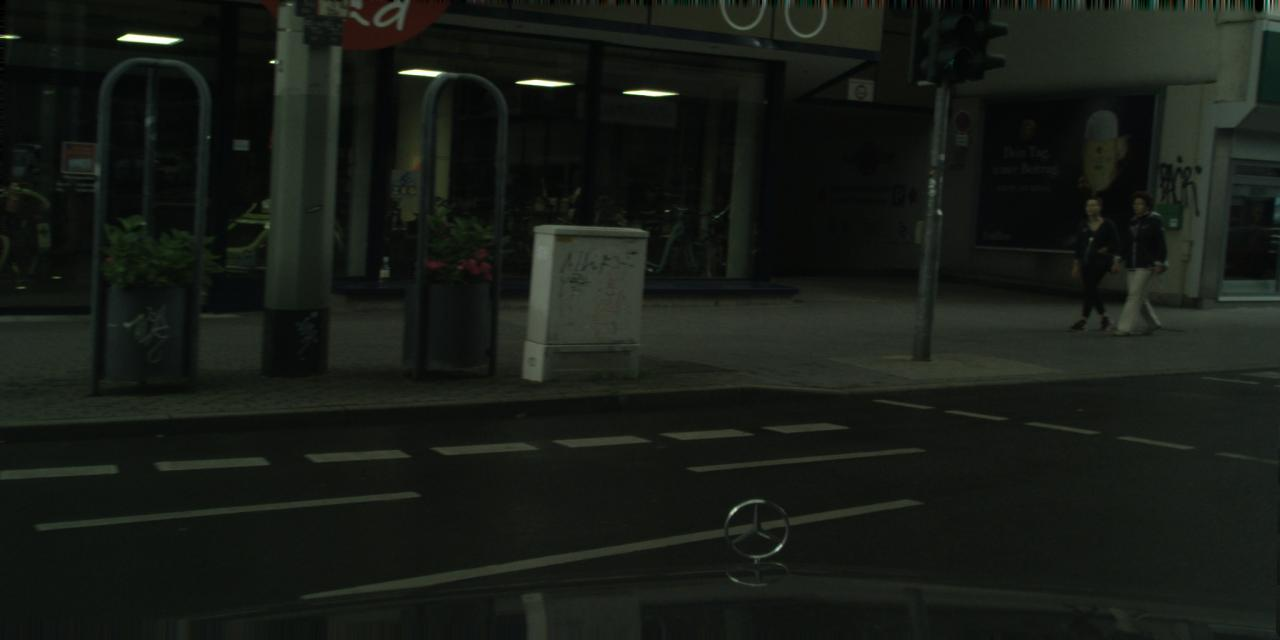ped: (1110, 190, 1169, 336), (1066, 196, 1122, 331)
